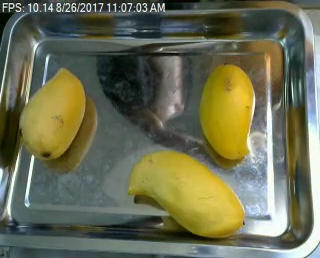Mango: (125, 142, 248, 241), (18, 65, 93, 161), (195, 61, 257, 159)
